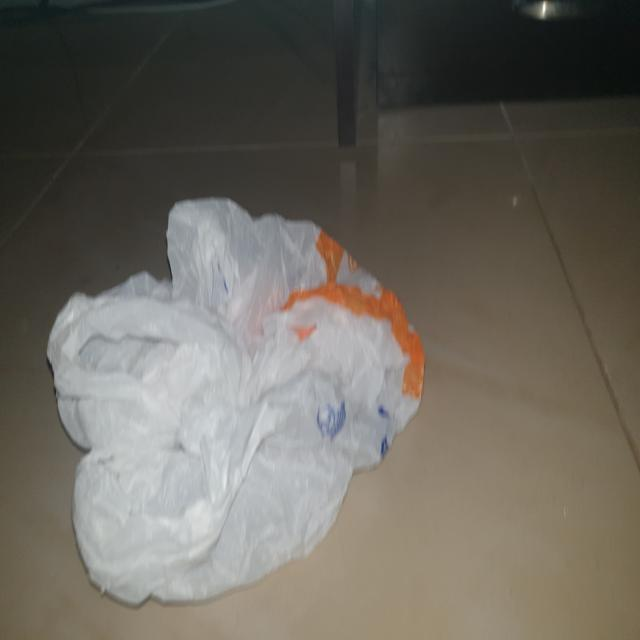Plastic_Bag: (44, 176, 432, 624)
